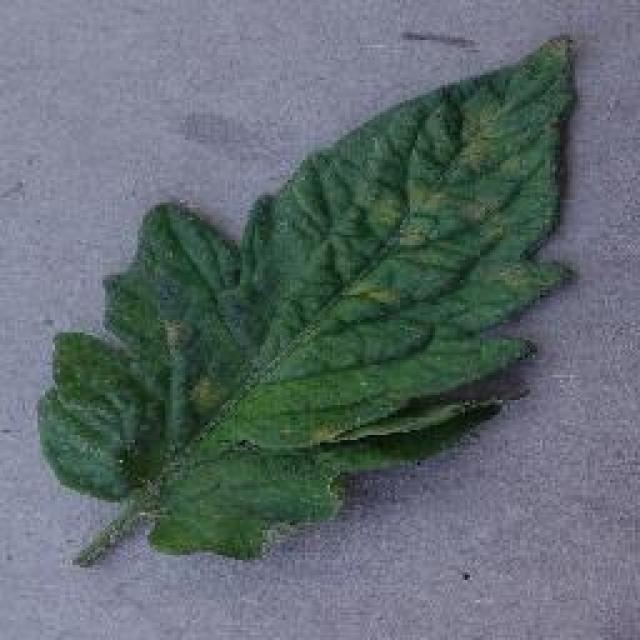Tomato mold leaf: (44, 35, 578, 563)
